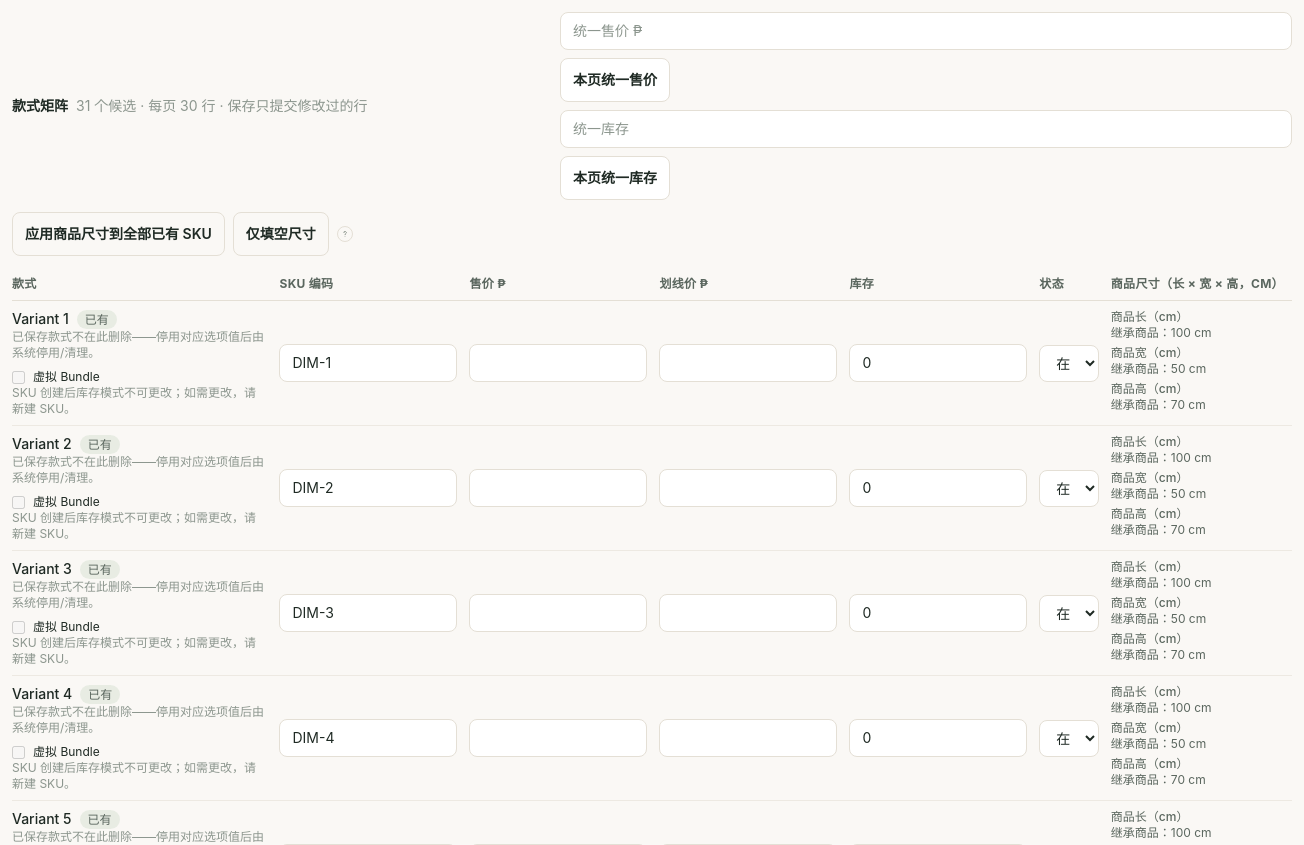
VariantMatrix › SKU product dimension editing › applies to eligible SKUs on every page, not just the visible thirty rows
Click the button "应用商品尺寸到全部已有 SKU".
click(118, 234)  # box [12,212,225,256]
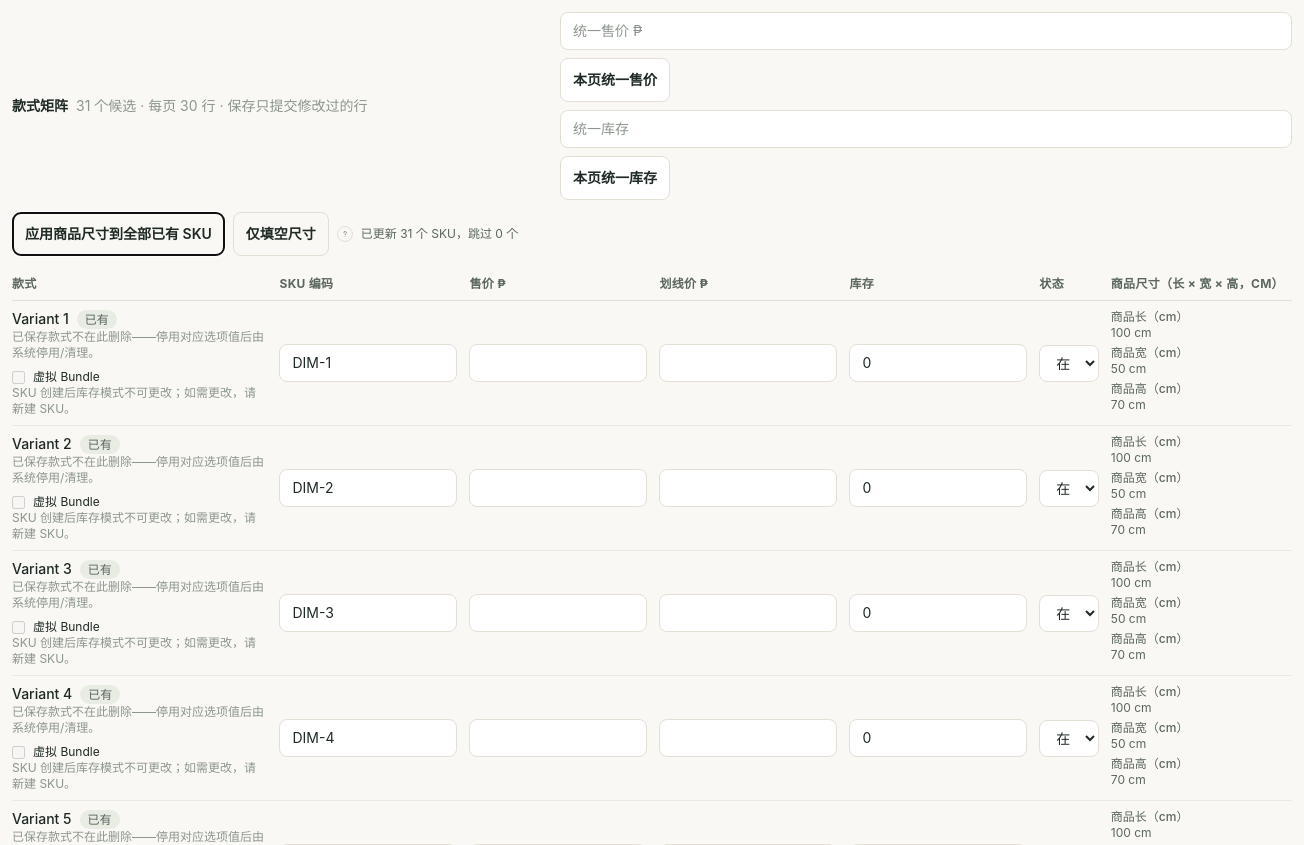
expect the text "已更新 31 个 SKU，跳过 0 个" is shown: met, box [361,226,518,242]
